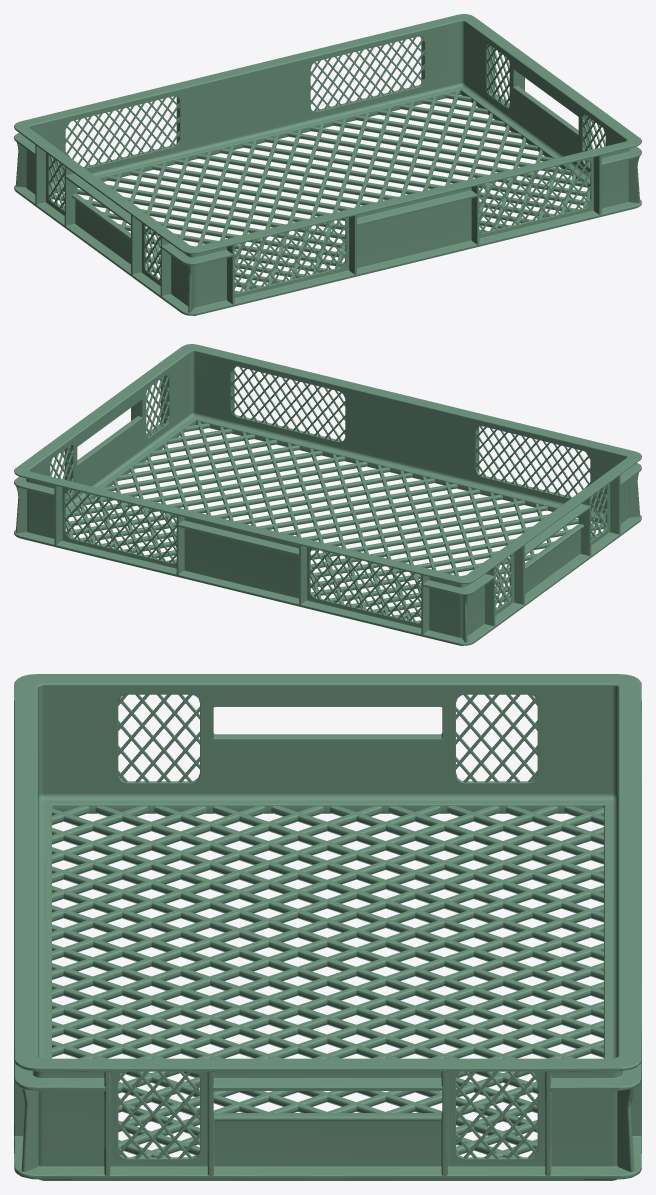
File: crate_green_a20.glb
The picture shows the model from 3 angles, top to bottom: view 1: azimuth 30°, elevation 25°; view 2: azimuth 150°, elevation 25°; view 3: azimuth 270°, elevation 25°; orthographic projection. The views are drawn at different scales.
Bounding box in the file's own units: 0.6117 × 0.0903 × 0.4116.
